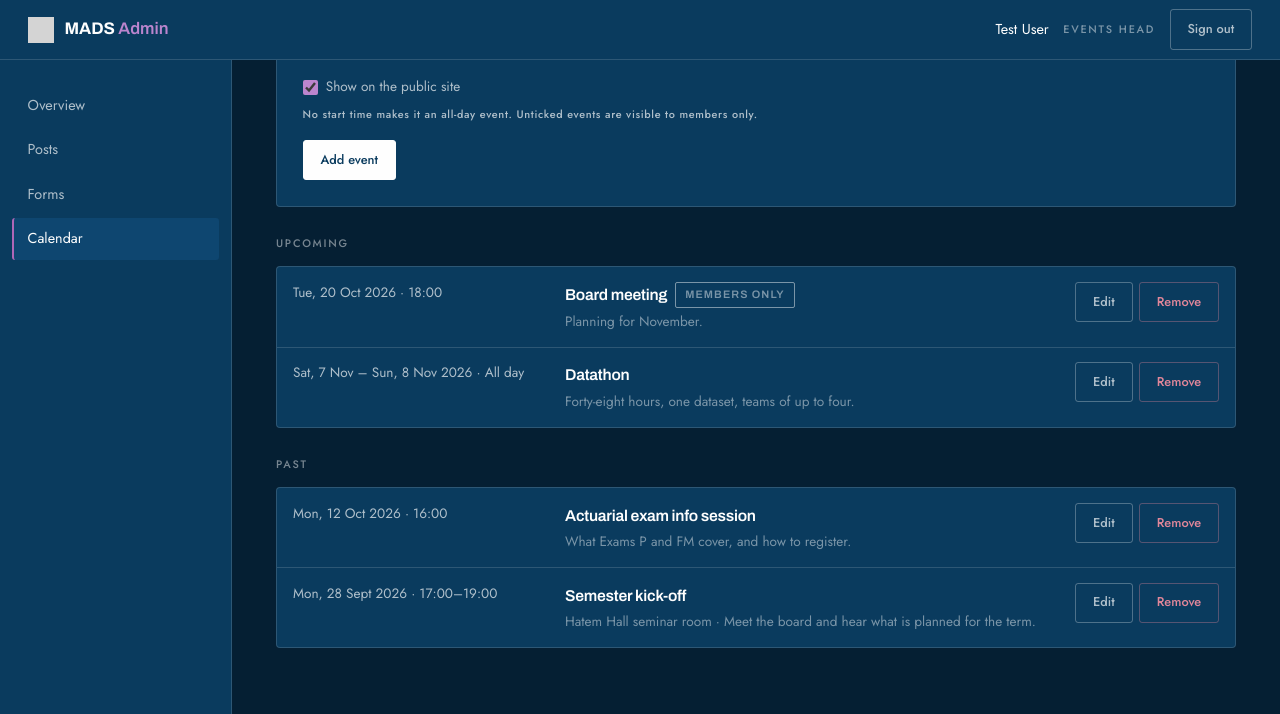
Scenario: Calendar › edits an event in place
(page scrolled)
Click the button with aria-label "edit datathon". click: (1104, 382)
box: [1075,362,1132,402]
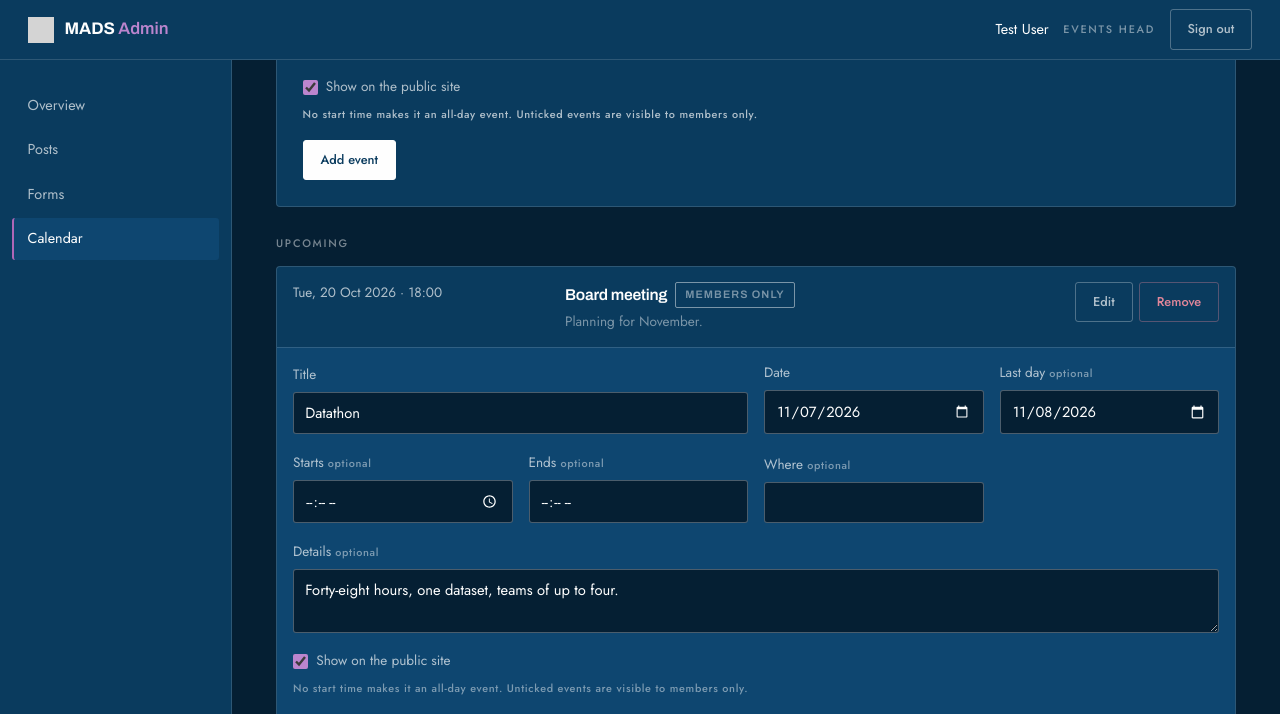
Replace the text in the field labelled "Title" with "Spring datathon". click: (520, 413)
box: [293,392,748,434]
(page scrolled)
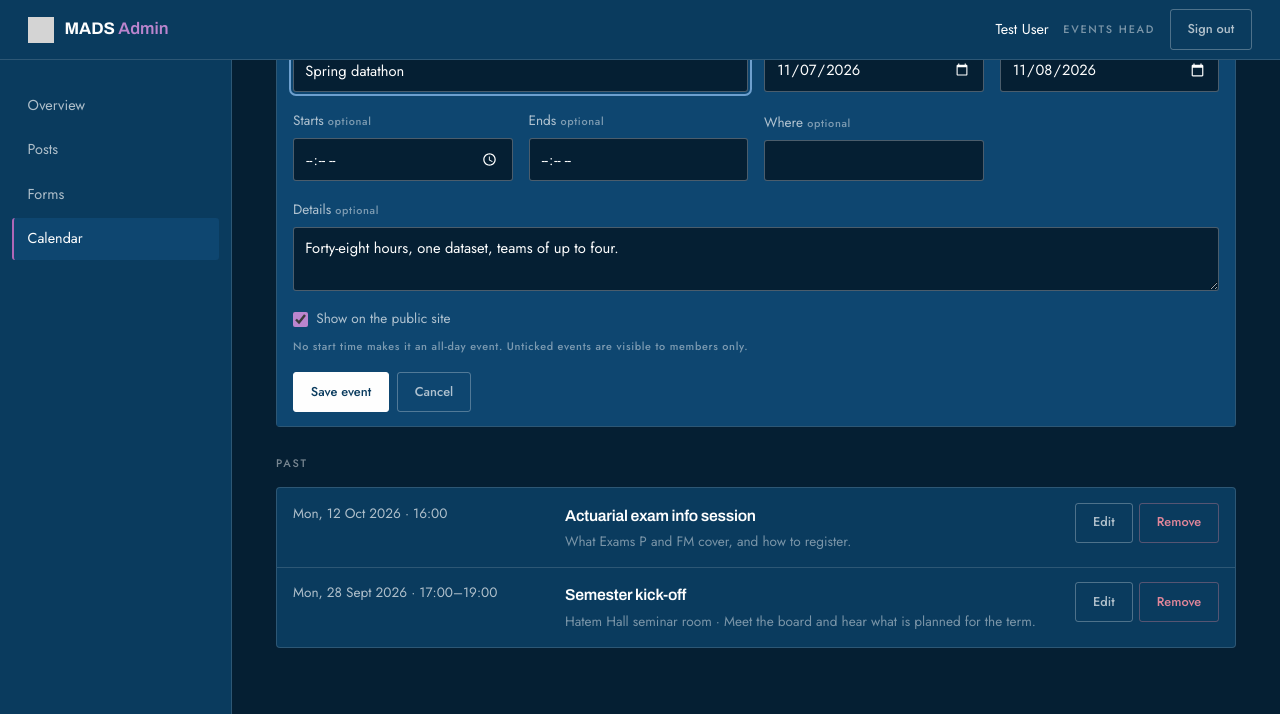
Click the button "Save event". click: (341, 392)
box: [293,372,389,412]
(page scrolled)
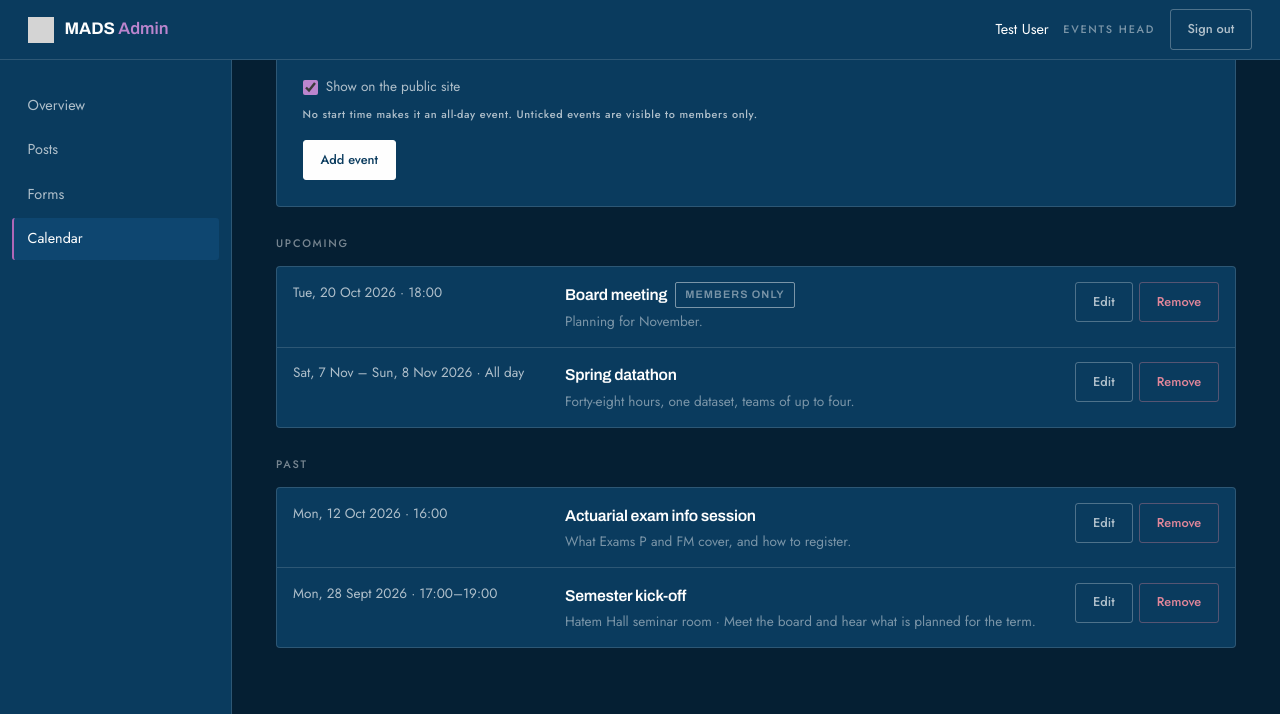
Expected: the heading "Spring datathon" is shown, [565,366,677,383]
